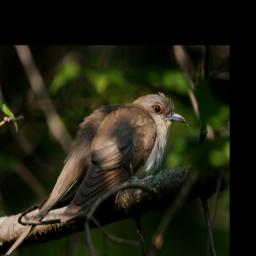Cuckoo: (0, 90, 188, 256)
